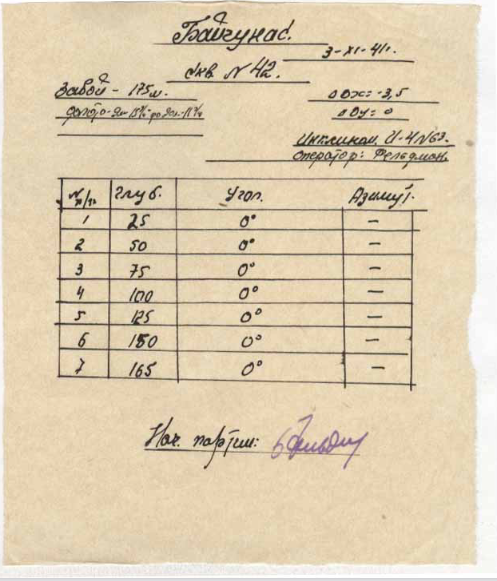Bordered: (60, 177, 415, 390)
